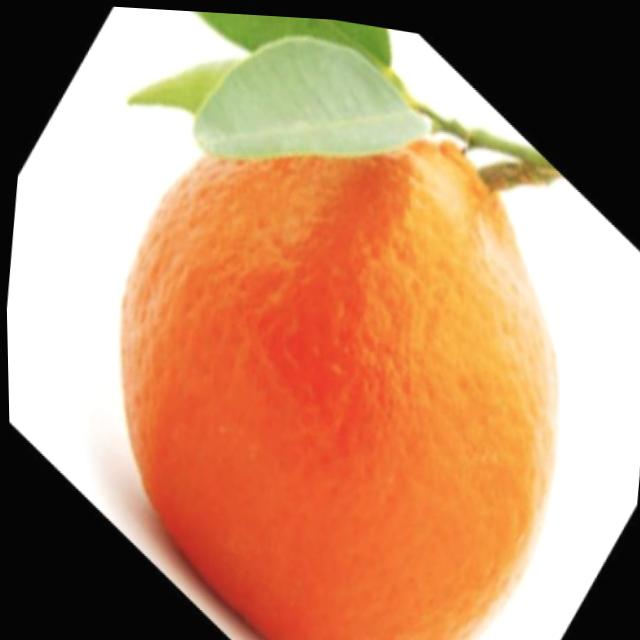Orange: (81, 78, 589, 640)
